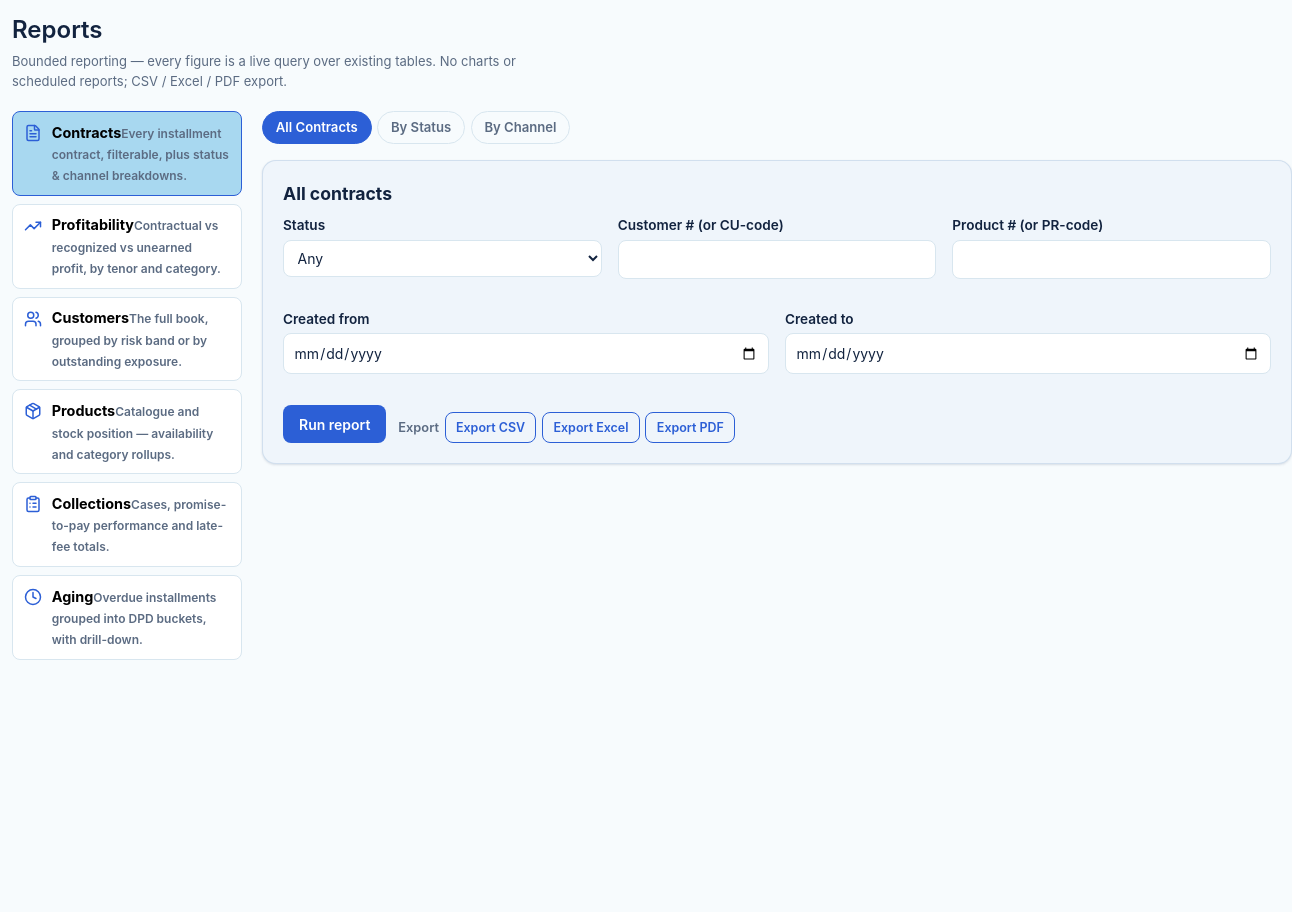
Test: Reports Center — six categories + sub-reports (Step 13) › shows all six categories, each with its own sub-report list
The width and height of the screenshot is (1292, 912).
Expected: the tab "Contracts" is shown, [12,111,242,196]
Expected: the tab "Profitability" is shown, [12,204,242,289]
Customers category exposes three sub-reports as a visible sub-nav
Click the tab "Customers".
click(127, 339)  # box [12,297,242,381]
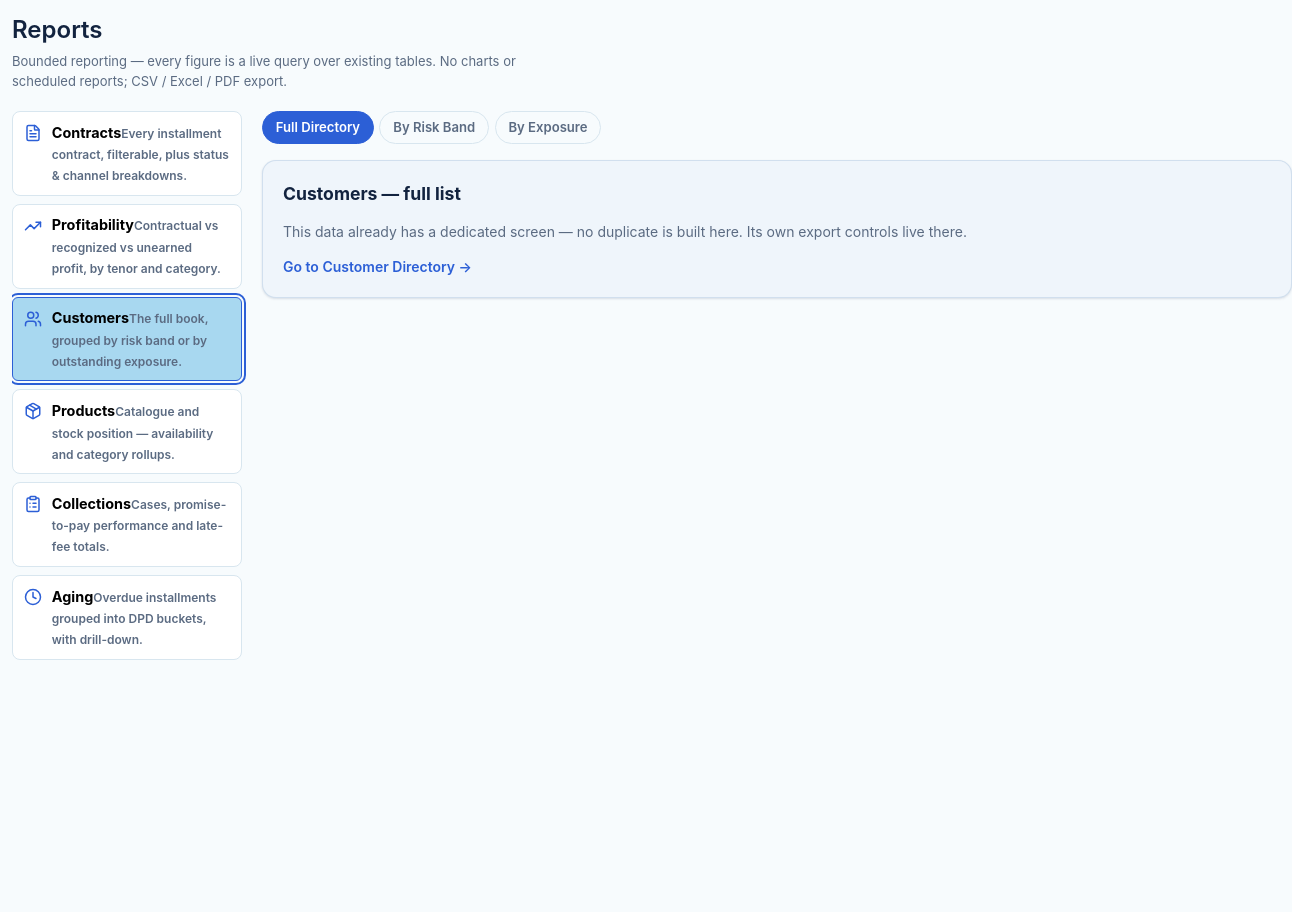
Expected: the tab "Full Directory" is shown, [262,111,374,144]
Expected: the tab "By Risk Band" is shown, [380,111,489,144]
Expected: the tab "By Exposure" is shown, [495,111,601,144]
